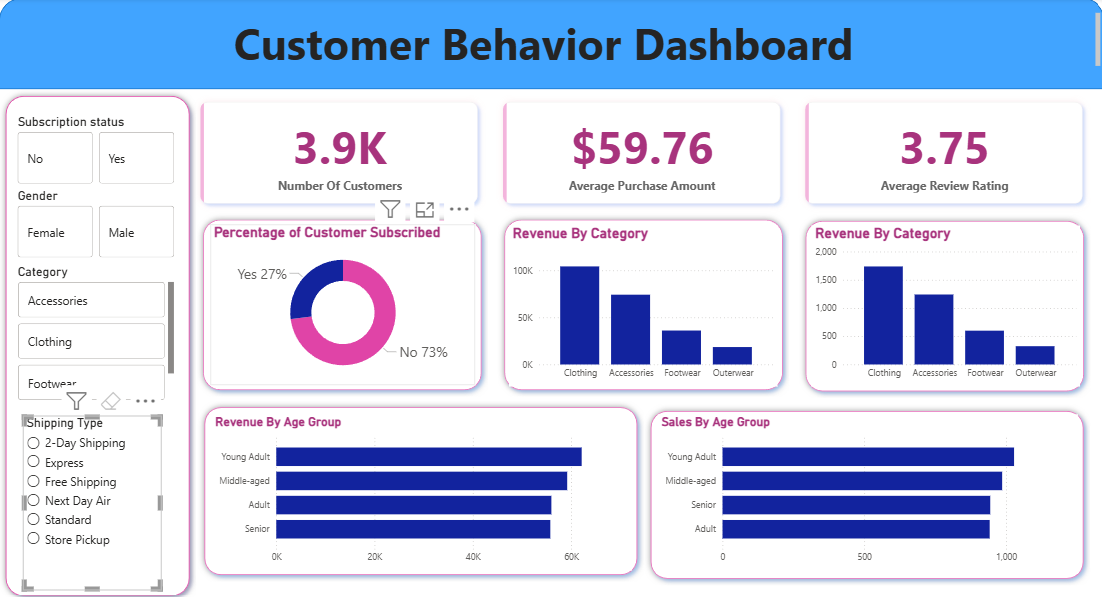

What the dashboard file says about the page in this screenshot:
{"tool":"powerbi","page":{"name":"Page 1","canvas":[1500,820],"ordinal":0},"visuals":[{"type":"cardVisual","fields":{"Data":["firstproject customer.Number Of Customers","firstproject customer.Average Purchase Amount","firstproject customer.Average Review Rating"]},"box":[243.4,111.2,1256.6,197],"z":0},{"type":"shape","box":[0,0,1500,123.8],"z":1000},{"type":"textbox","box":[0,15.3,1499.7,84.7],"z":2000},{"type":"shape","box":[267.4,291.3,395.4,249.1],"z":3000},{"type":"donutChart","title":"Percentage of Customer Subscribed","fields":{"Category":["firstproject customer.subscription_status"],"Y":["Count(firstproject customer.customer_id)"]},"box":[285.6,306.8,360.2,218.1],"z":4000},{"type":"shape","box":[0,123.8,267.4,696.5],"z":5000},{"type":"advancedSlicerVisual","fields":{"Values":["firstproject customer.gender"]},"box":[21.1,257.5,222.3,99.9],"z":6000},{"type":"advancedSlicerVisual","fields":{"Values":["firstproject customer.category"]},"box":[21.1,360.2,222.3,190],"z":7000},{"type":"listSlicer","fields":{"Values":["firstproject customer.shipping_type"]},"box":[32.4,565.7,188.6,237.8],"z":8000},{"type":"shape","box":[269.4,545.6,605,245.7],"z":9000},{"type":"shape","box":[675.4,291.3,395.4,249.1],"z":10000},{"type":"shape","box":[1084.9,292.7,395.4,249.1],"z":11000},{"type":"clusteredColumnChart","title":"Revenue  By Category","fields":{"Y":["Sum(firstproject customer.purchase_amount)"],"Category":["firstproject customer.category"]},"box":[691.4,308.4,364.3,218.6],"z":12000},{"type":"shape","box":[874.4,550.7,605,245.7],"z":13000},{"type":"clusteredBarChart","title":"Revenue By Age Group","fields":{"Category":["firstproject customer.age_group"],"Y":["Sum(firstproject customer.purchase_amount)"]},"box":[288.1,564.3,569.4,211.8],"z":14000},{"type":"advancedSlicerVisual","fields":{"Values":["firstproject customer.subscription_status"]},"box":[21.1,157.6,222.3,99.9],"z":15000},{"type":"clusteredColumnChart","title":"Revenue  By Category","fields":{"Category":["firstproject customer.category"],"Y":["CountNonNull(firstproject customer.customer_id)"]},"box":[1101.5,308.4,364.3,218.6],"z":16000},{"type":"clusteredBarChart","title":"Sales By Age Group","fields":{"Category":["firstproject customer.age_group"],"Y":["CountNonNull(firstproject customer.purchase_amount)"]},"box":[893,564.3,569.4,211.8],"z":16001}]}

Visuals, with their boxes in screenshot pixels (x1, y1, x2, y2), scaled from the page's 1500x820 canvas onto the 1102x597 screenshot:
cardVisual - firstproject customer.Number Of Customers x firstproject customer.Average Purchase Amount: [179,81,1101,224]
shape: [0,0,1101,90]
textbox: [0,11,1101,73]
shape: [196,212,487,393]
"Percentage of Customer Subscribed" donutChart: [210,223,474,382]
shape: [0,90,196,596]
advancedSlicerVisual - firstproject customer.gender: [16,187,179,260]
advancedSlicerVisual - firstproject customer.category: [16,262,179,401]
listSlicer - firstproject customer.shipping_type: [24,412,162,585]
shape: [198,397,642,576]
shape: [496,212,787,393]
shape: [797,213,1088,394]
"Revenue  By Category" clusteredColumnChart: [508,225,776,384]
shape: [642,401,1087,580]
"Revenue By Age Group" clusteredBarChart: [212,411,630,565]
advancedSlicerVisual - firstproject customer.subscription_status: [16,115,179,187]
"Revenue  By Category" clusteredColumnChart: [809,225,1077,384]
"Sales By Age Group" clusteredBarChart: [656,411,1074,565]
